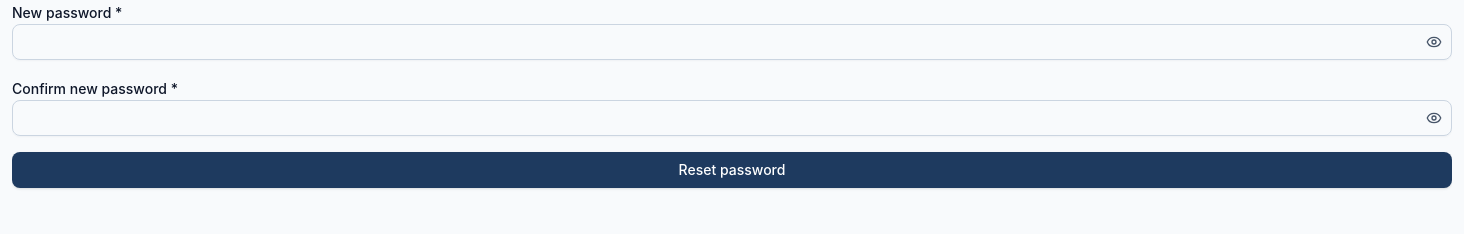
Test: ResetPasswordForm (integration, local Supabase) › shows a validation error and never submits when the passwords do not match
In the password field labelled "New password *": (732, 42) left=12, top=24, right=1452, bottom=60, type "NewKilimani2027"
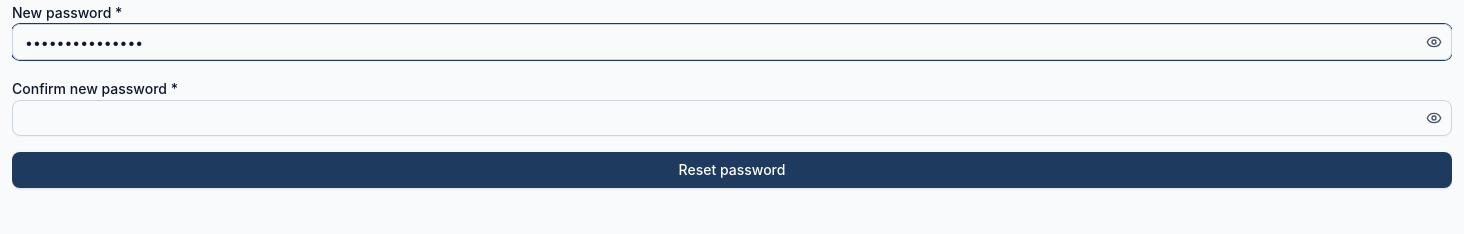
In the password field labelled "Confirm new password *": (732, 118) left=12, top=100, right=1452, bottom=136, type "SomethingElse2027"
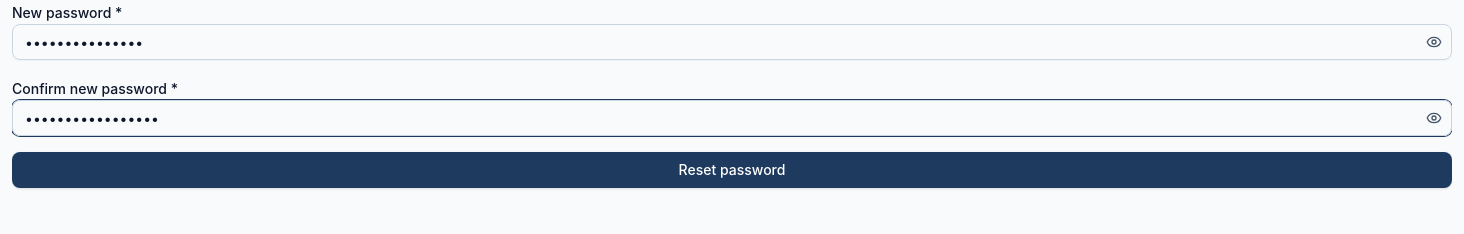
Click the button "Reset password": click(732, 170) left=12, top=152, right=1452, bottom=188
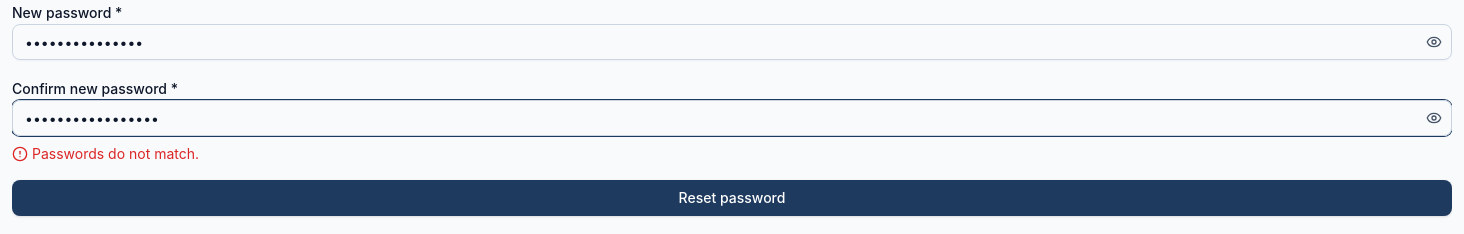
Expected: the text "Passwords do not match." is shown, left=12, top=145, right=199, bottom=162
